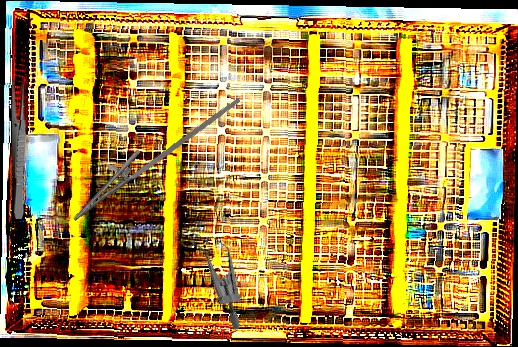Dressing Forceps: (10, 78, 28, 220)
Needle Holder: (61, 67, 242, 241)
Speculum: (147, 213, 276, 333)
